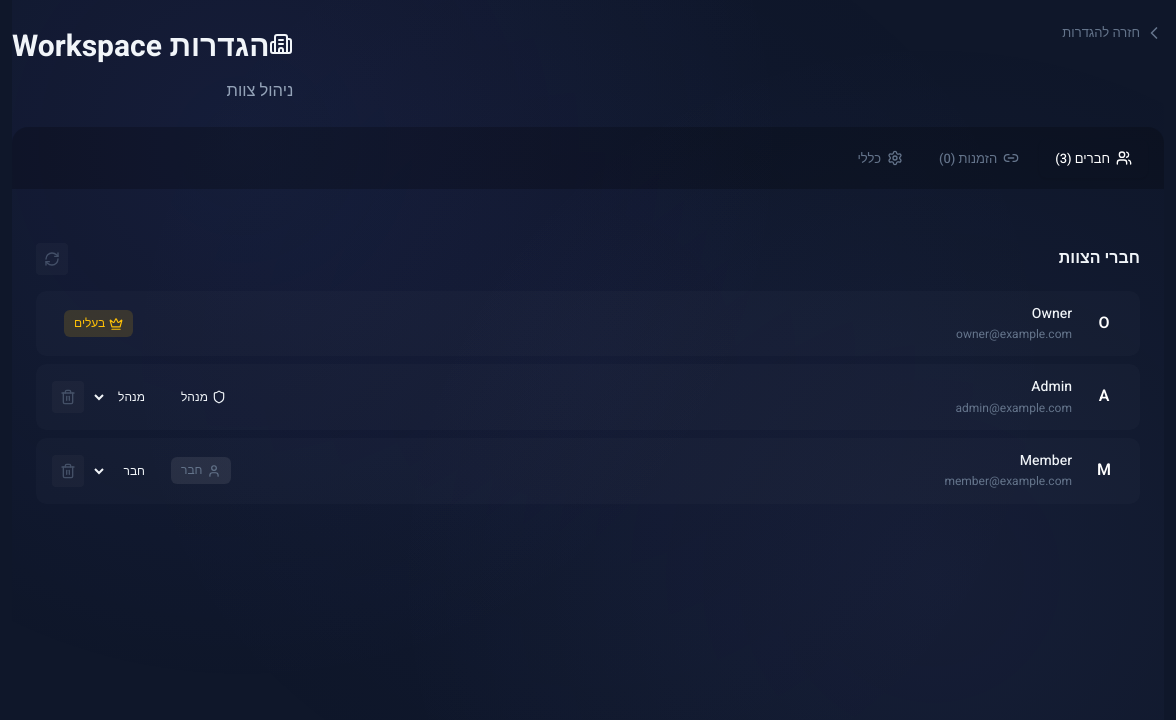
Test: WorkspaceSettings - what each role can do (matches the server) › owner: changes roles, removes anyone but the owner, renames and deletes the workspace
The width and height of the screenshot is (1176, 720).
Expected: the text "member@example.com" is shown, [944,472,1072,490]
Expected: the dropdown next to "מנהל" shows "מנהל", [92,381,159,413]
Click the button "כללי": click(880, 158) [841,139,919,178]
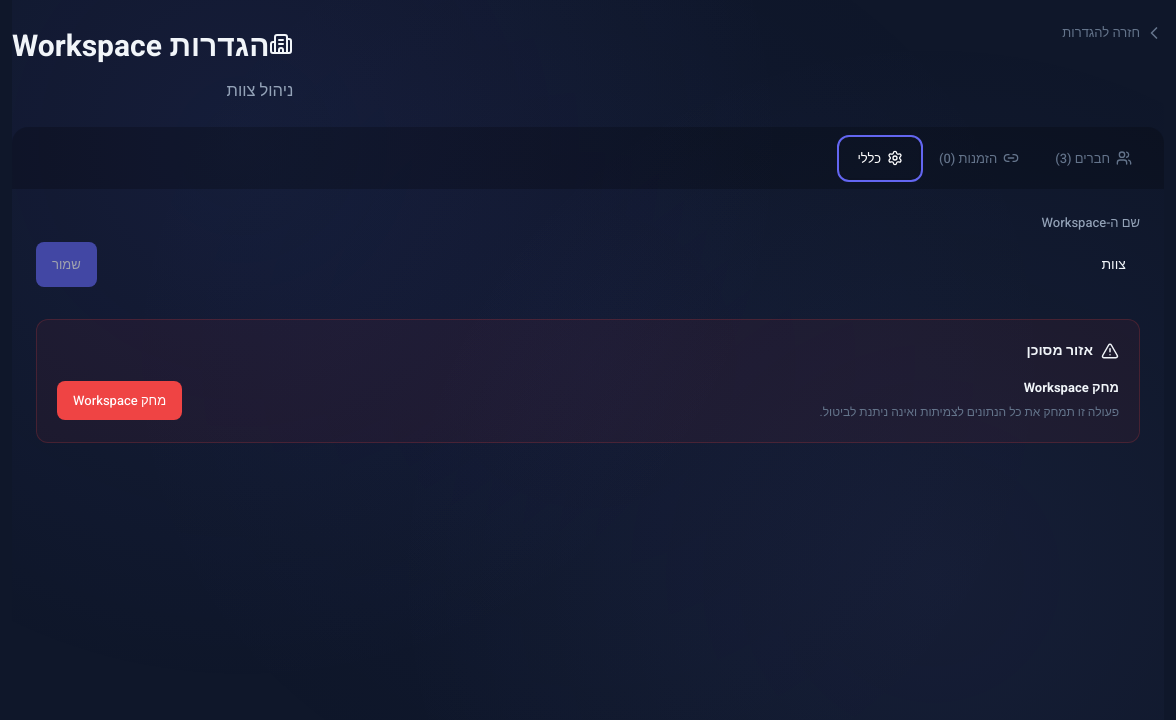
Expected: the field labelled "שם ה-Workspace" holds "צוות", [107,242,1140,287]
Expected: the button "מחק Workspace" is shown, [57,381,182,420]
